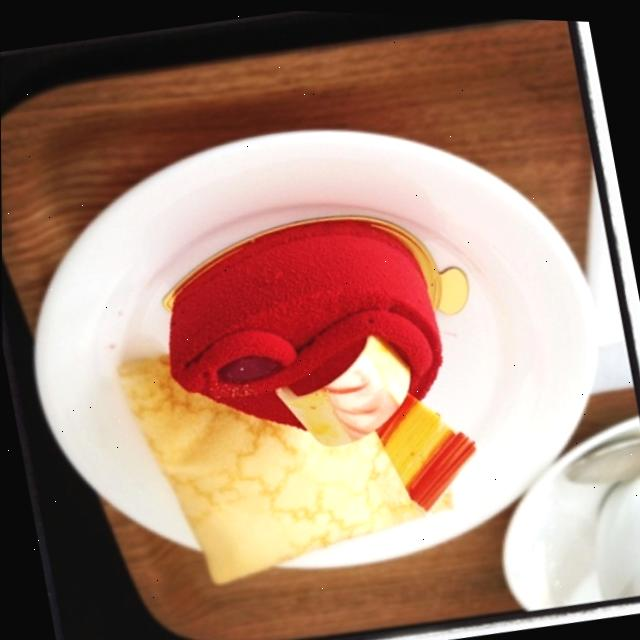蛋糕甜品: (85, 145, 505, 617)
